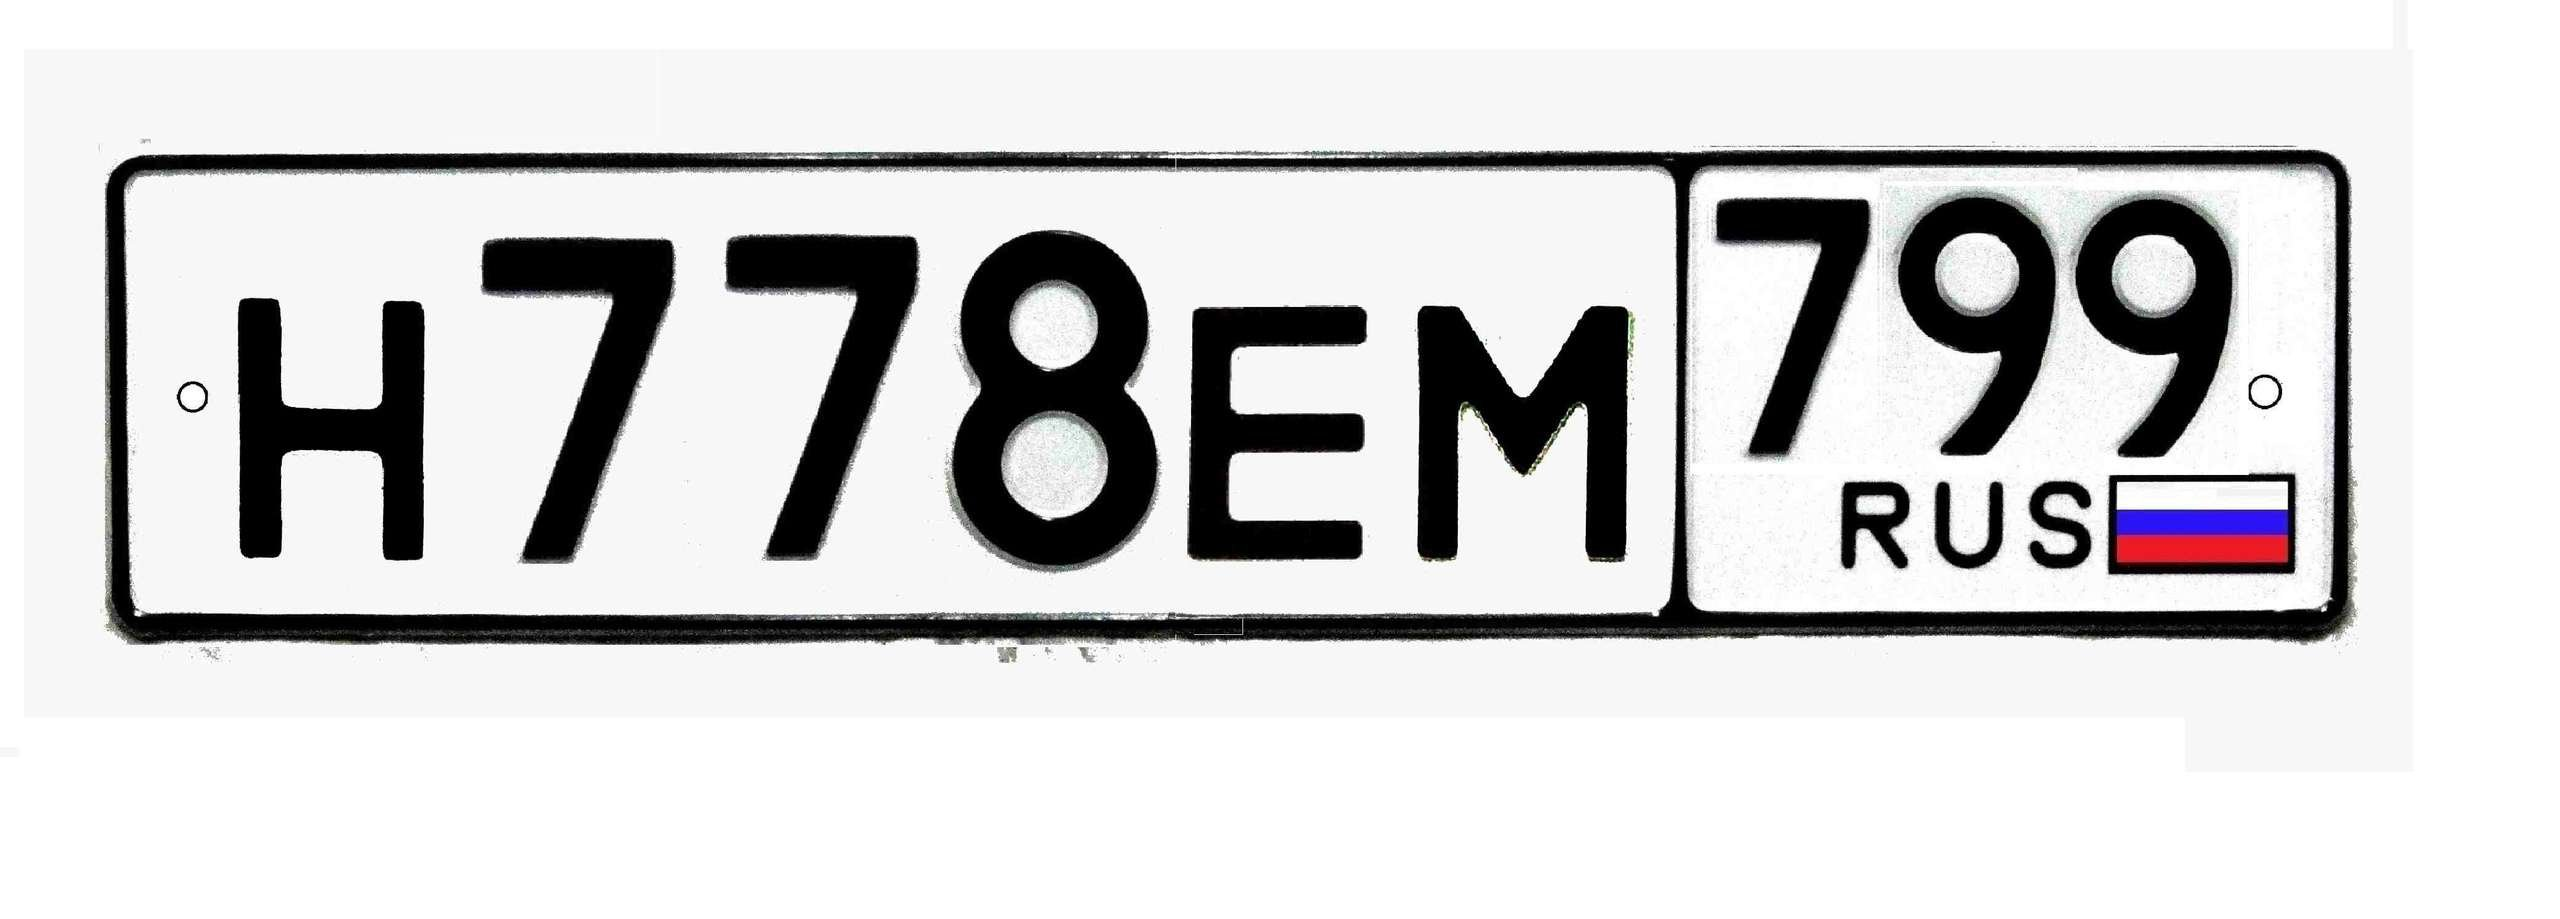number_plate: (127, 166, 2330, 603)
